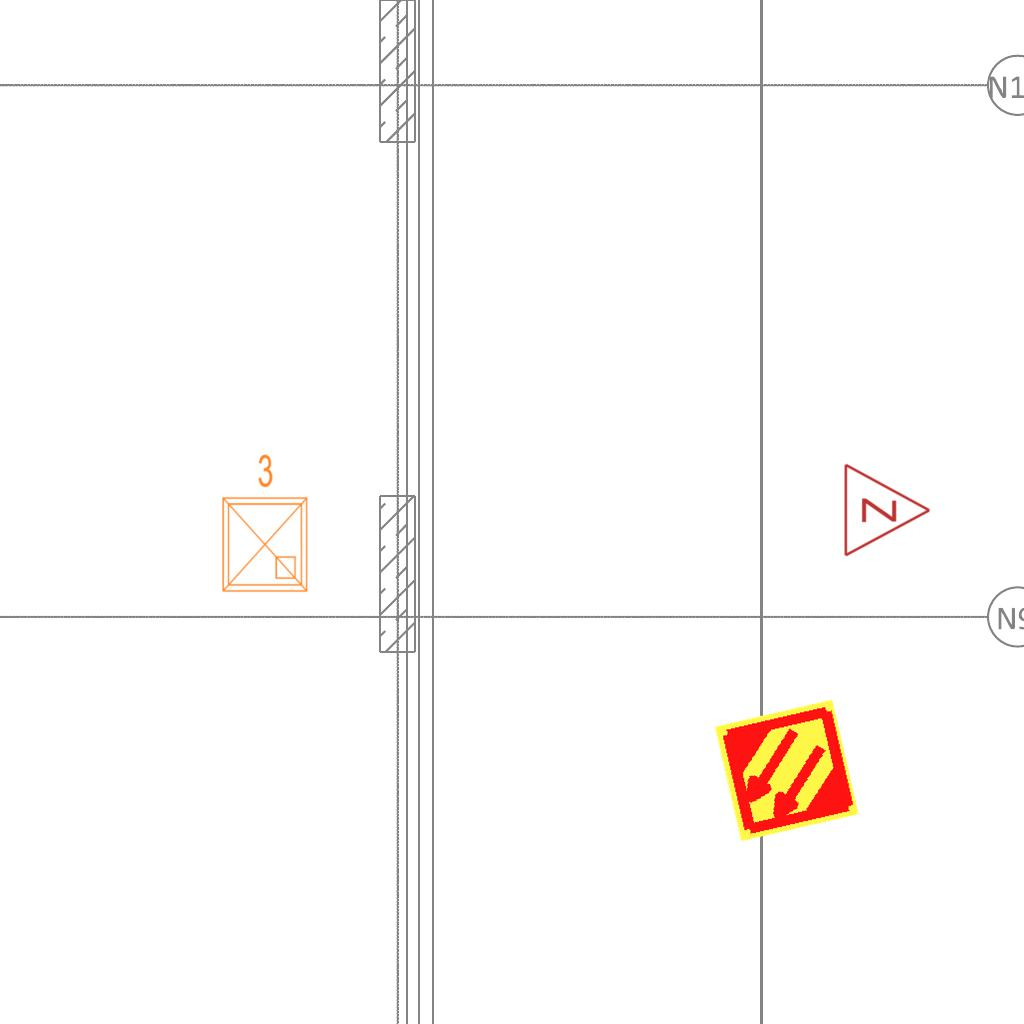ASR_Ansaugrauchmelder: (711, 695, 862, 846)
Einbaudownlights_LED_Konferenzraeume: (211, 449, 315, 599)
Zimmersignalleuchte: (837, 460, 937, 558)
